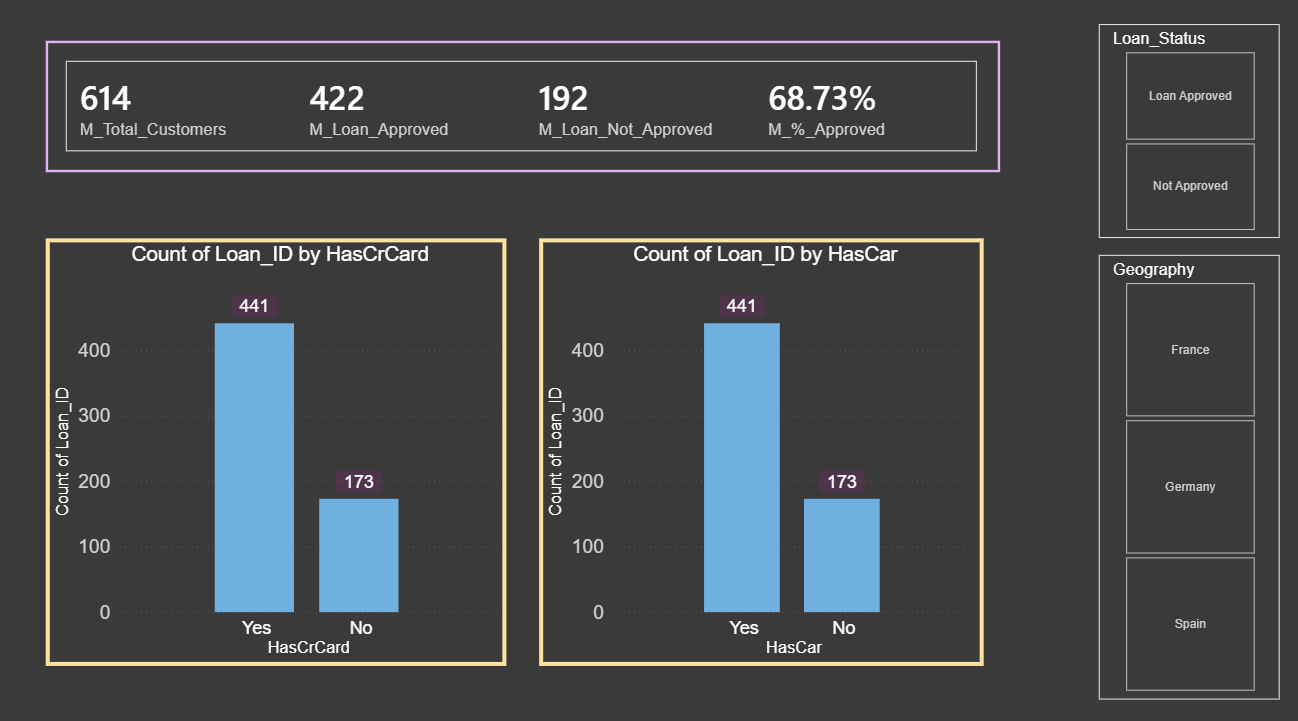

The dashboard page shown, as its layout file describes it:
{"tool":"powerbi","page":{"name":"Financial Product Ownership","canvas":[1280,720],"ordinal":6},"visuals":[{"type":"columnChart","fields":{"Category":["LoanData.HasCrCard"],"Y":["CountNonNull(LoanData.Loan_ID)"]},"box":[48,240,448,416],"z":0},{"type":"columnChart","fields":{"Category":["LoanData.HasCar"],"Y":["CountNonNull(LoanData.Loan_ID)"]},"box":[528,240,432,416],"z":1},{"type":"cardVisual","fields":{"Data":["LoanData.M_Total_Customers","LoanData.M_Loan_Approved","LoanData.M_Loan_Not_Approved","LoanData.M_%_Approved"]},"box":[48,48,928,128],"z":2},{"type":"slicer","fields":{"Values":["LoanData.Loan_Status"]},"box":[1072,32,176,208],"z":3},{"type":"slicer","fields":{"Values":["LoanData.Geography"]},"box":[1072,256,176,432],"z":4}]}

Visuals, with their boxes in screenshot pixels (x1, y1, x2, y2), scaled from the page's 1280x720 canvas onto the 1298x721 screenshot:
columnChart - LoanData.HasCrCard x CountNonNull(LoanData.Loan_ID): detection(49, 240, 503, 657)
columnChart - LoanData.HasCar x CountNonNull(LoanData.Loan_ID): detection(535, 240, 974, 657)
cardVisual - LoanData.M_Total_Customers x LoanData.M_Loan_Approved: detection(49, 48, 990, 176)
slicer - LoanData.Loan_Status: detection(1087, 32, 1266, 240)
slicer - LoanData.Geography: detection(1087, 256, 1266, 689)
